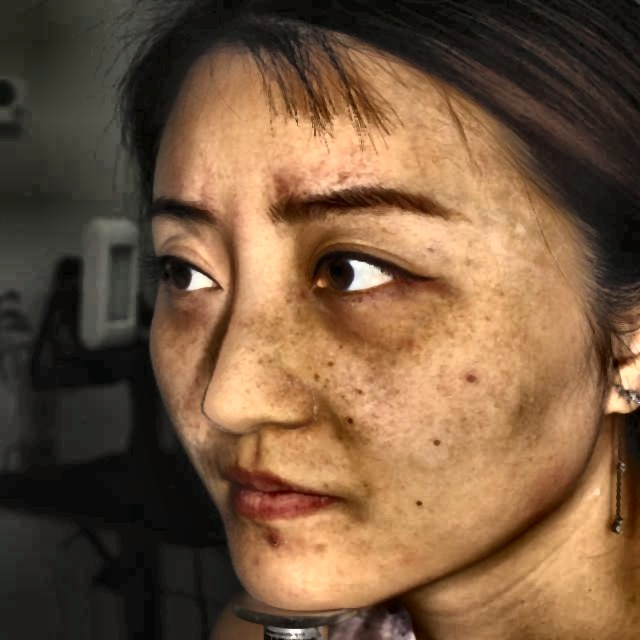comedone: (256, 513, 284, 556)
